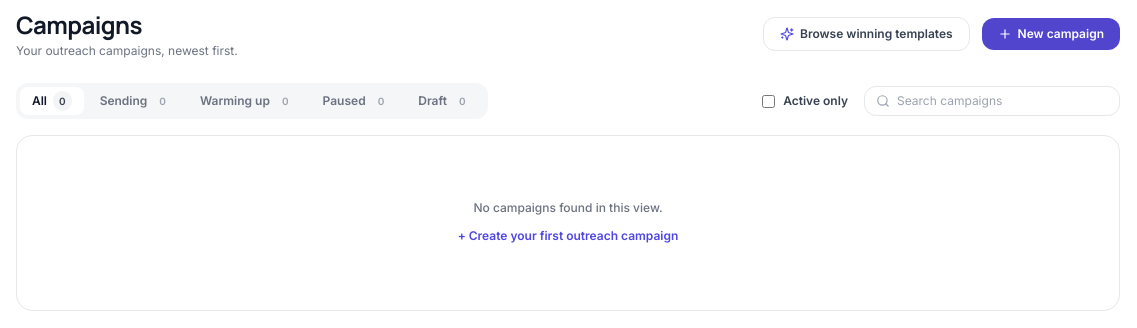
Test case: unsupported missing access keeps current template visible but held
Click the button "Browse winning templates". click: (866, 34)
box: [763,17,970,51]
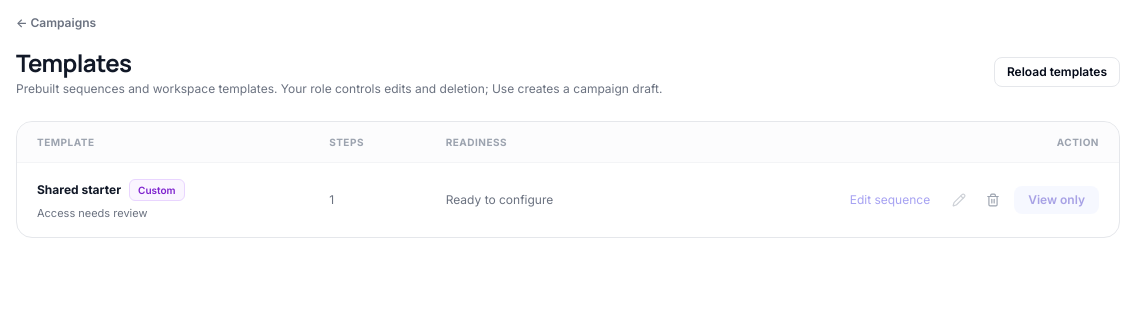
Check: the text "Shared starter" is shown, box [37,182,121,198]
Check: the text "Access needs review" is shown, box [37,206,148,220]
Check: the button named "Edit template details Shared starter" is disabled, box [946,187,972,213]
